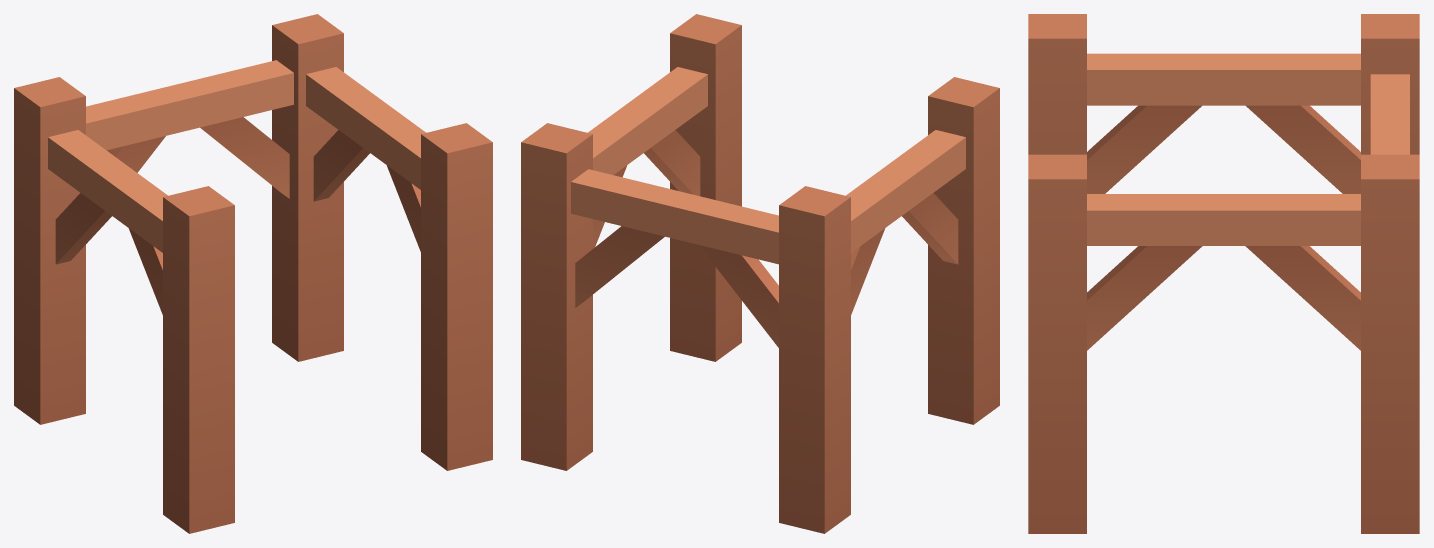
Rendered from wood-structure.glb.
The picture shows the model from 3 angles, left to right: view 1: azimuth 30°, elevation 25°; view 2: azimuth 150°, elevation 25°; view 3: azimuth 270°, elevation 25°; orthographic projection. The views are drawn at different scales.
Parts seen in each view (by area): view 1: wood-structure; view 2: wood-structure; view 3: wood-structure.
Boxes of the visible parts, x1,y1,x2,y2 form: wood-structure: (14,14,492,533); wood-structure: (521,14,999,533); wood-structure: (1028,14,1419,533).
Size of the model in its own units: 1 by 1 by 1.
1 material, 1 textured.
